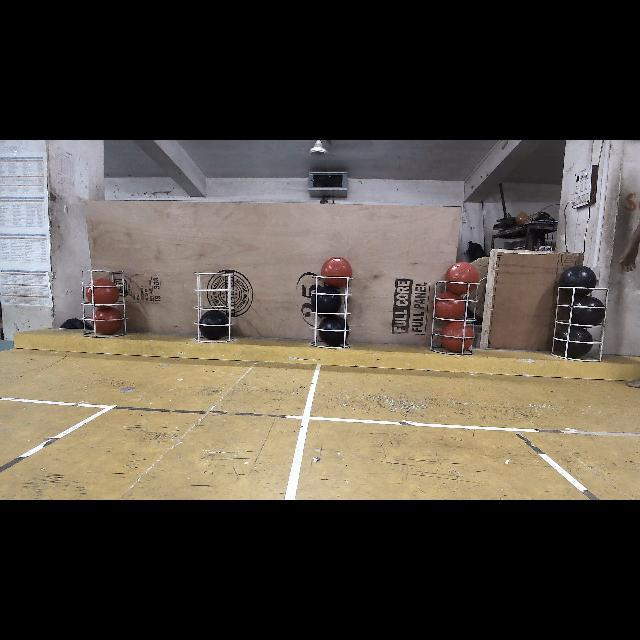P: (559, 265, 596, 299), (558, 326, 592, 356), (310, 285, 342, 315), (572, 297, 604, 327), (200, 310, 228, 340), (319, 316, 349, 344)
R: (445, 262, 480, 295), (85, 279, 119, 309), (321, 256, 352, 288), (441, 322, 474, 352), (433, 292, 465, 320), (91, 307, 122, 333)
S: (554, 285, 612, 363), (432, 278, 480, 358), (80, 268, 130, 336), (311, 274, 354, 352), (193, 270, 234, 344)
